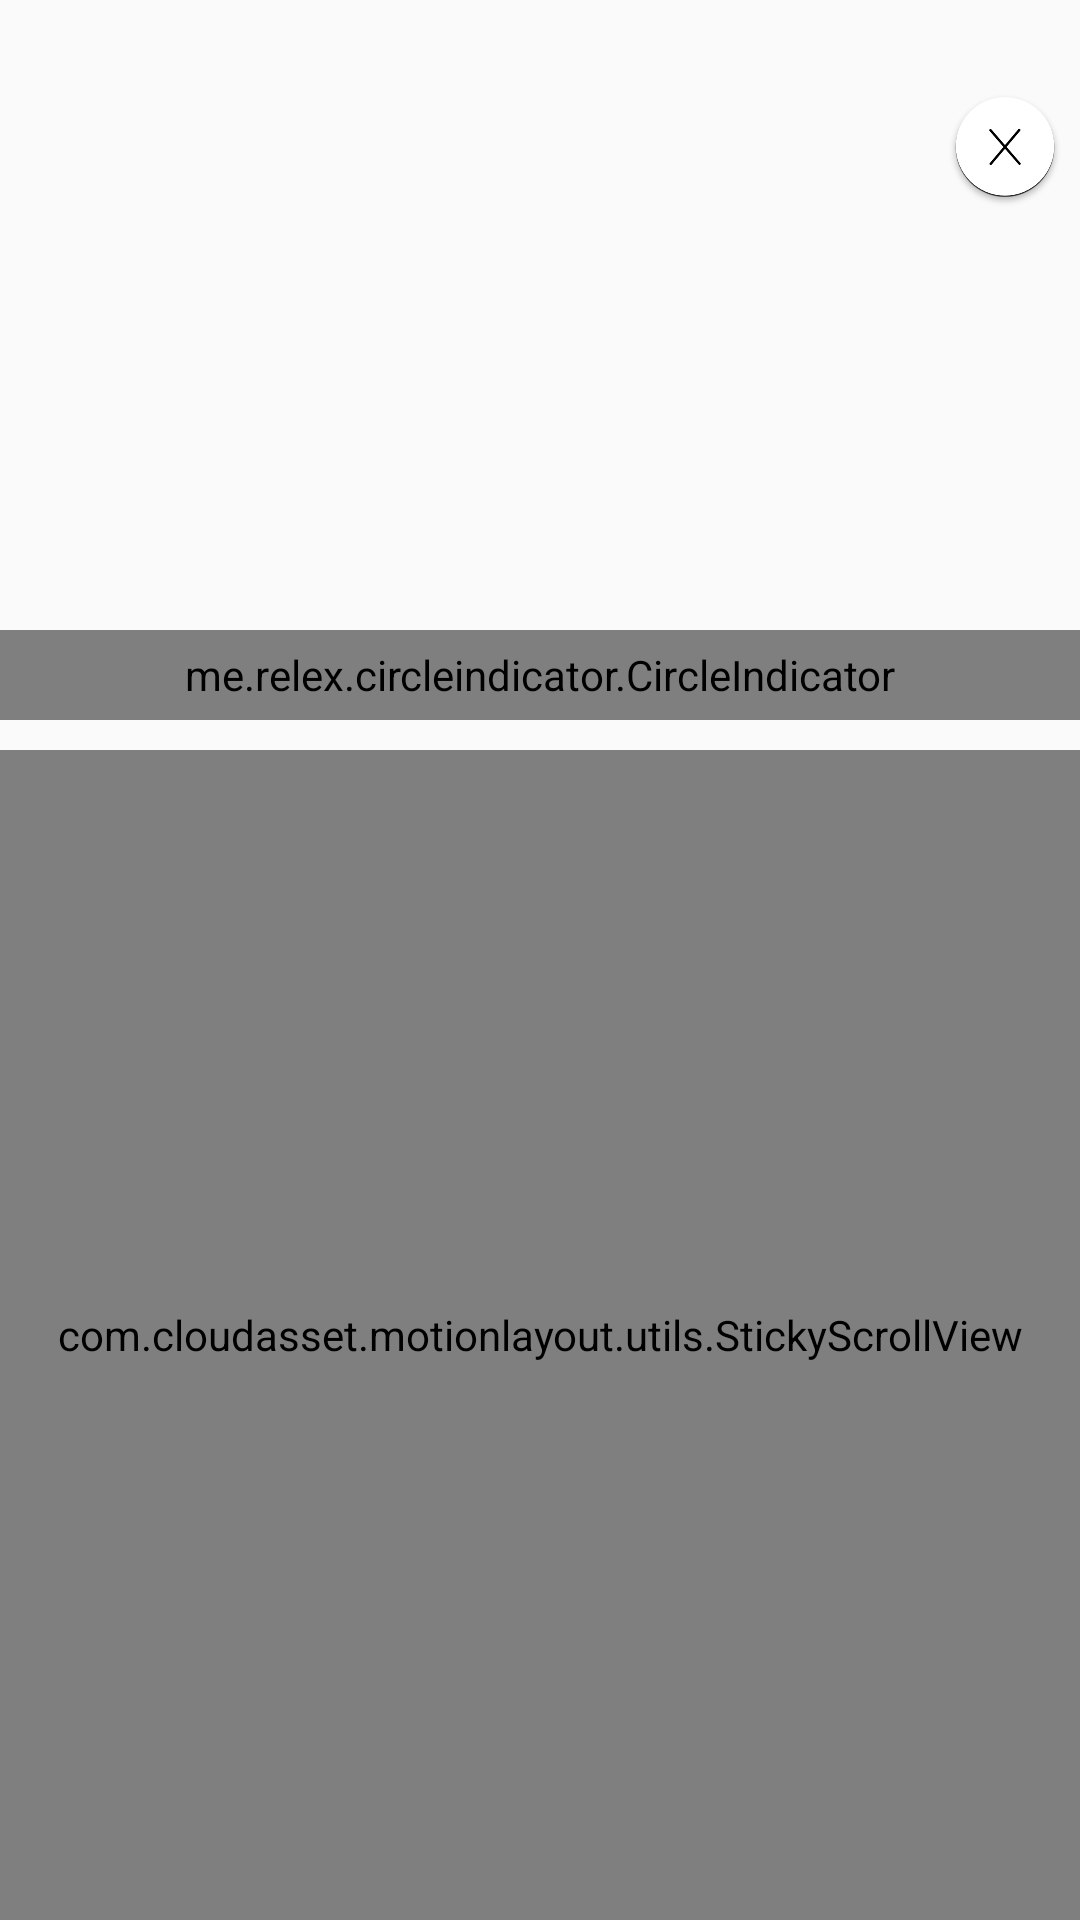

Where to tap for icons on this 1080w x 1920h app screen, as point (x, y):
cross: point (1004, 165)
